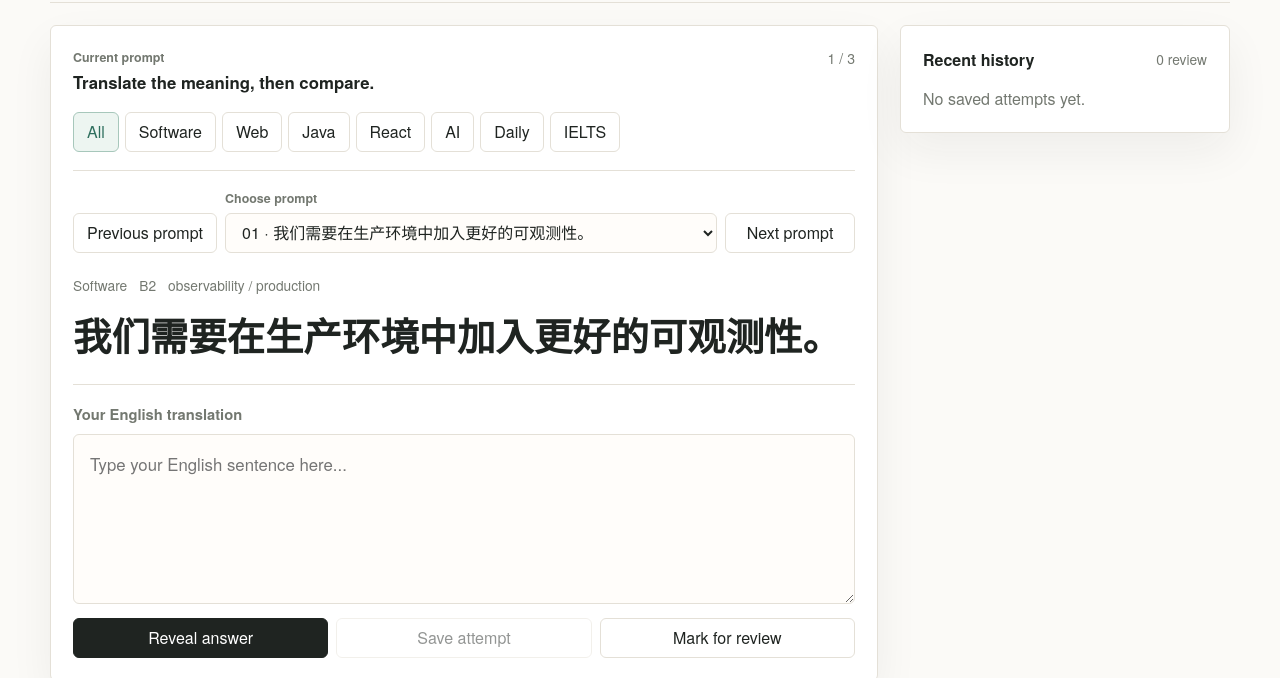
Test case: PracticeApp › lets the learner type, reveal the answer, and save the attempt
Expected: the text "我们需要在生产环境中加入更好的可观测性。" is shown, [73,311,855,362]
Expected: the text "We need to add better observability in production." is not shown
Type "We need better observability in production." into the text box labelled "Your English translation" at [464, 519], box [73,434,855,604]
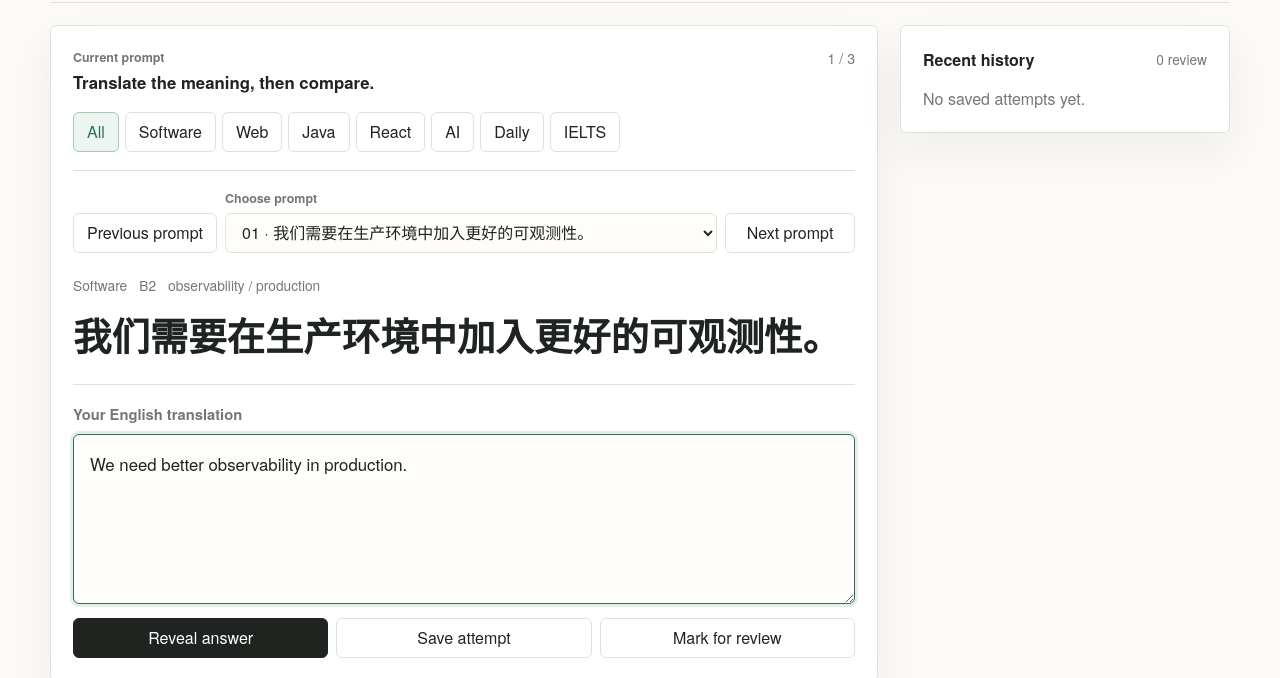
Click the button "Mark for review" at [727, 638], box [600,618,855,658]
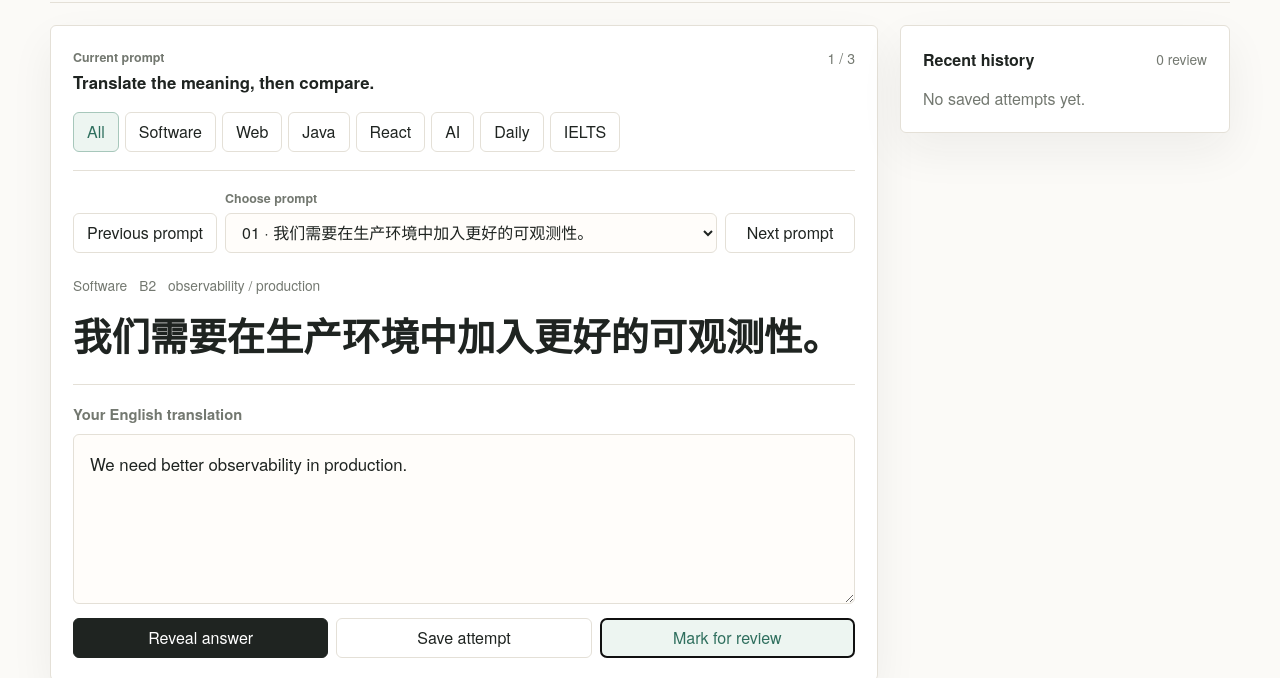
Click the button "Reveal answer" at [201, 638], box [73,618,328,658]
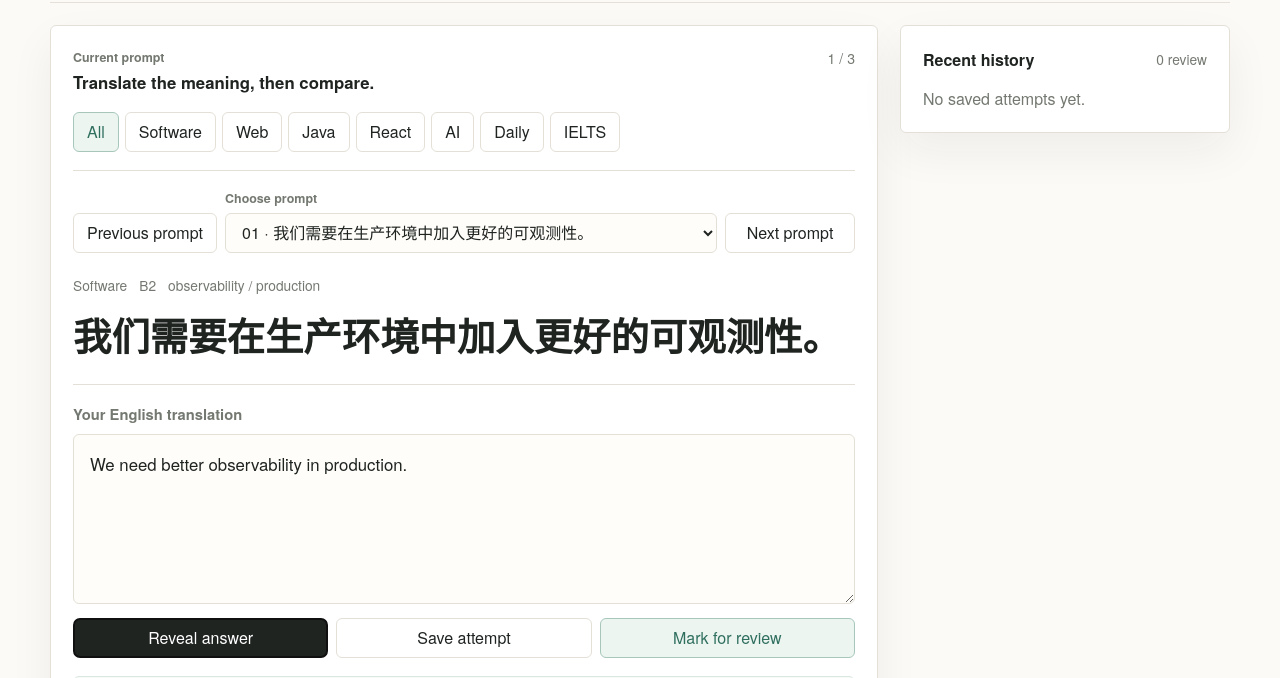
Click the button "Save attempt" at [464, 638], box [336,618,592,658]
(page scrolled)
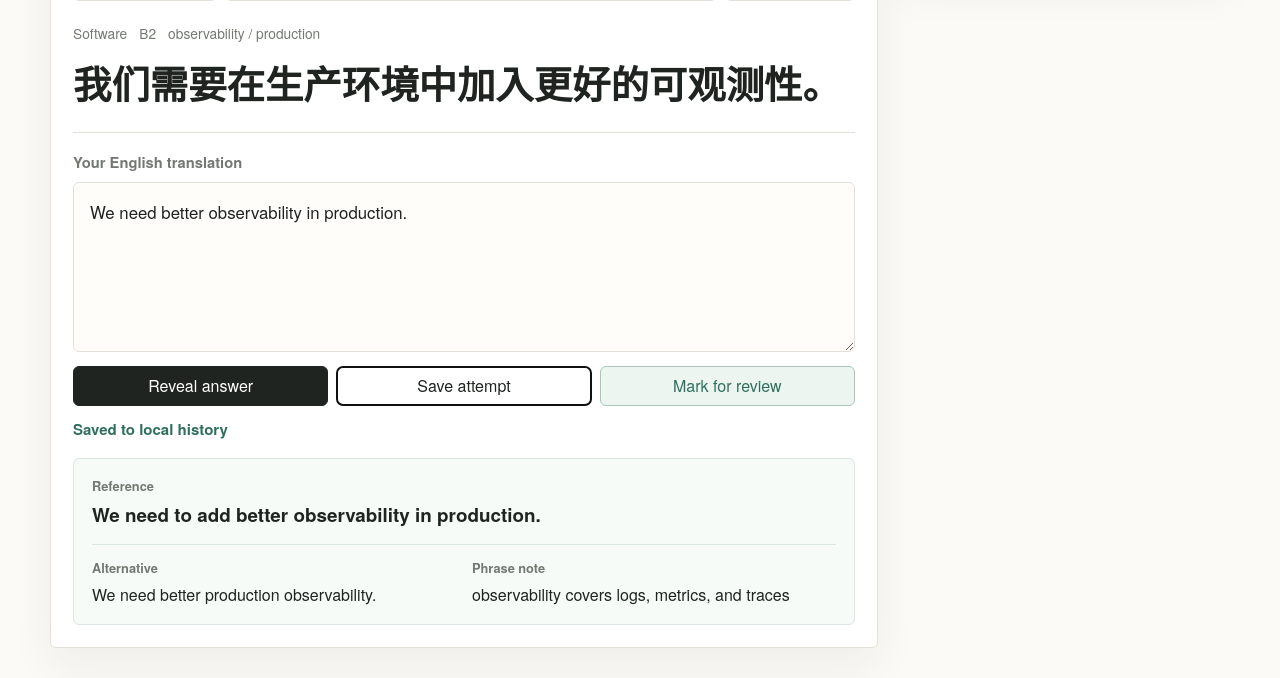
Expected: the text "Saved to local history" is shown, [73,418,228,440]
